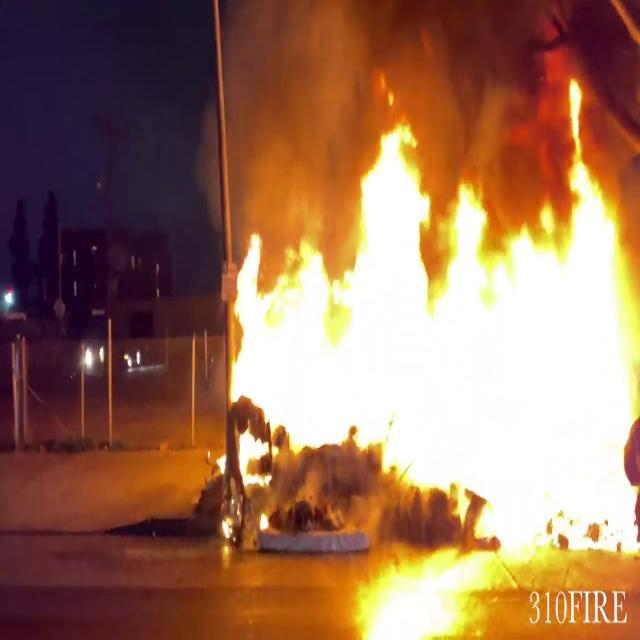Fire: (218, 96, 640, 564)
Smoke: (196, 0, 364, 228)
